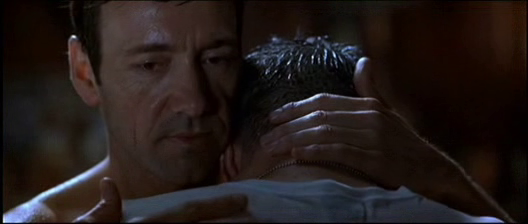cu: (1, 1, 528, 224)
face: (117, 22, 237, 181)
person: (2, 1, 518, 224), (120, 28, 502, 224)
